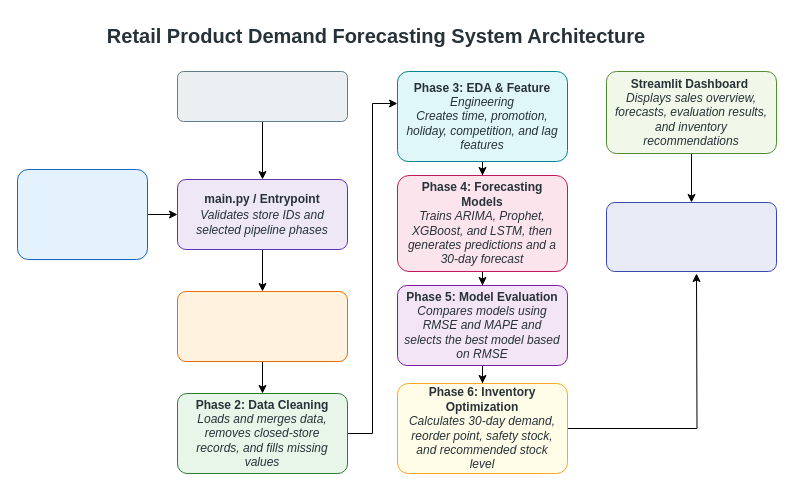
Image size: 794x491. Some labels were removed from this diagram. Here are the shapes that lost their labels. From the top down, the centre of each, then its label:
At (x=262, y=96): "Execution Support Pipeline execution via Docker or GitHub Actions".
At (x=82, y=214): "Input Data Rossmann sales data (train.csv) and store information (store.csv)".
At (x=691, y=237): "Outputs Forecasts, evaluation results, figures, and inventory recommendations".
At (x=262, y=326): "Phase 1: Project Setup Clears previous outputs and creates required folders".
